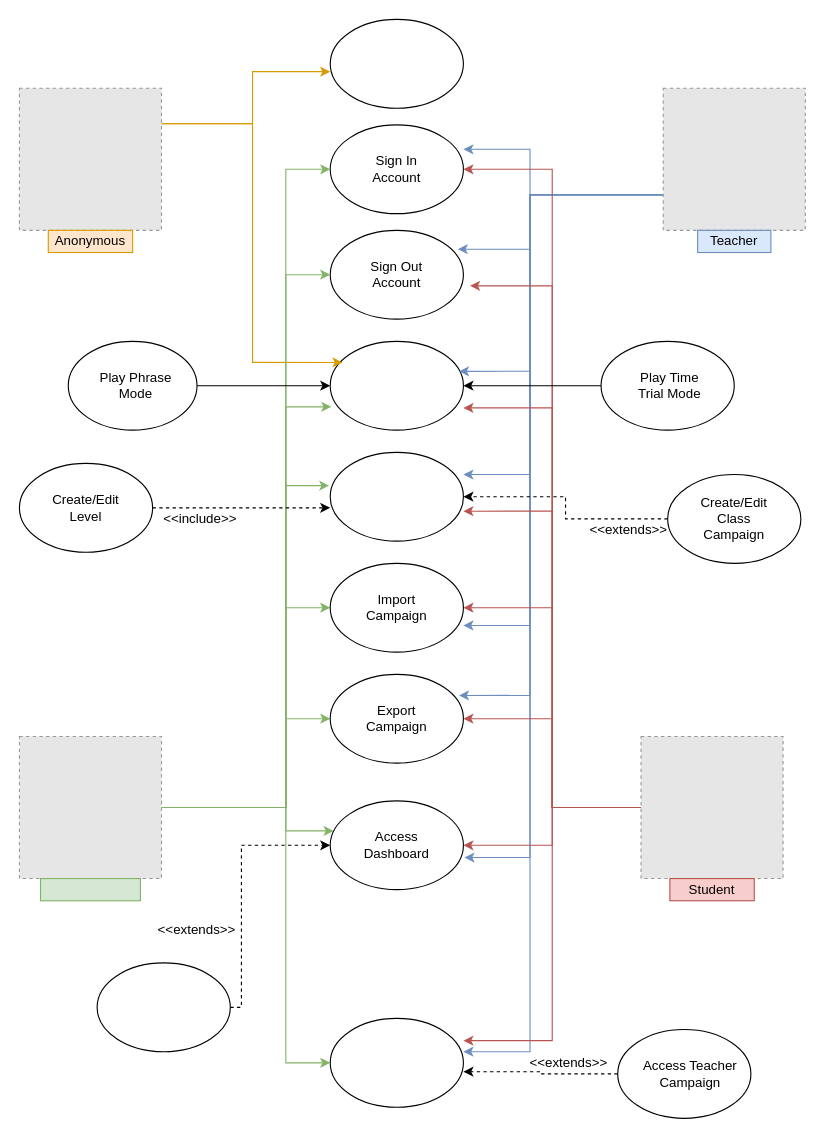
The diagram is 825 pixels wide and 1138 high, and some of its shapes have lost their labels. Grey dashed boxes stand in for pictures. Here are the shapes that lost their labels. From the top down, the box of each, then its label:
(329, 18, 463, 108): Register Account
(329, 340, 463, 430): Play Game
(329, 451, 463, 541): Create/Edit Campaign
(39, 877, 140, 901): Registered
(96, 962, 230, 1052): Access Teacher Dashboard
(329, 1017, 463, 1107): Access Campaign
